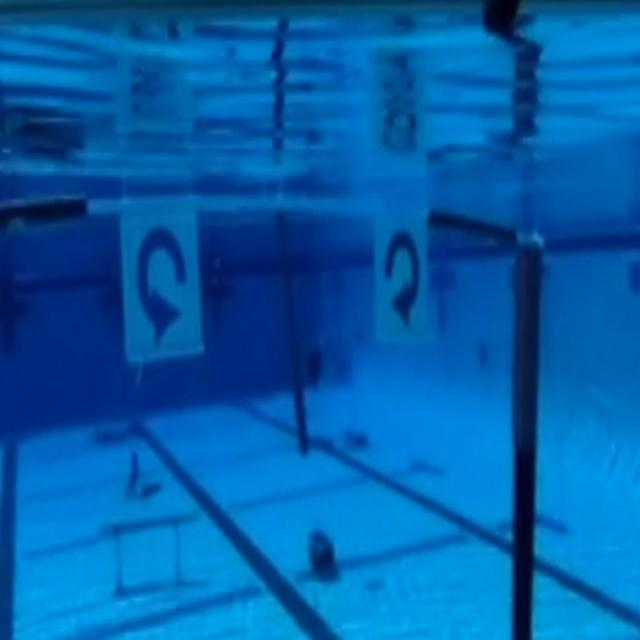Gate: (2, 162, 546, 640)
